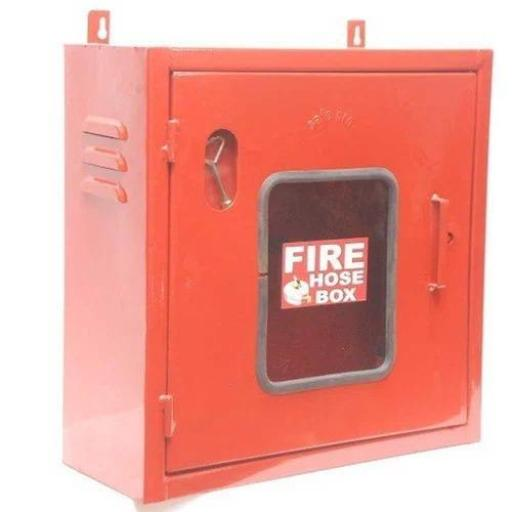fire_hose: (51, 21, 512, 508)
